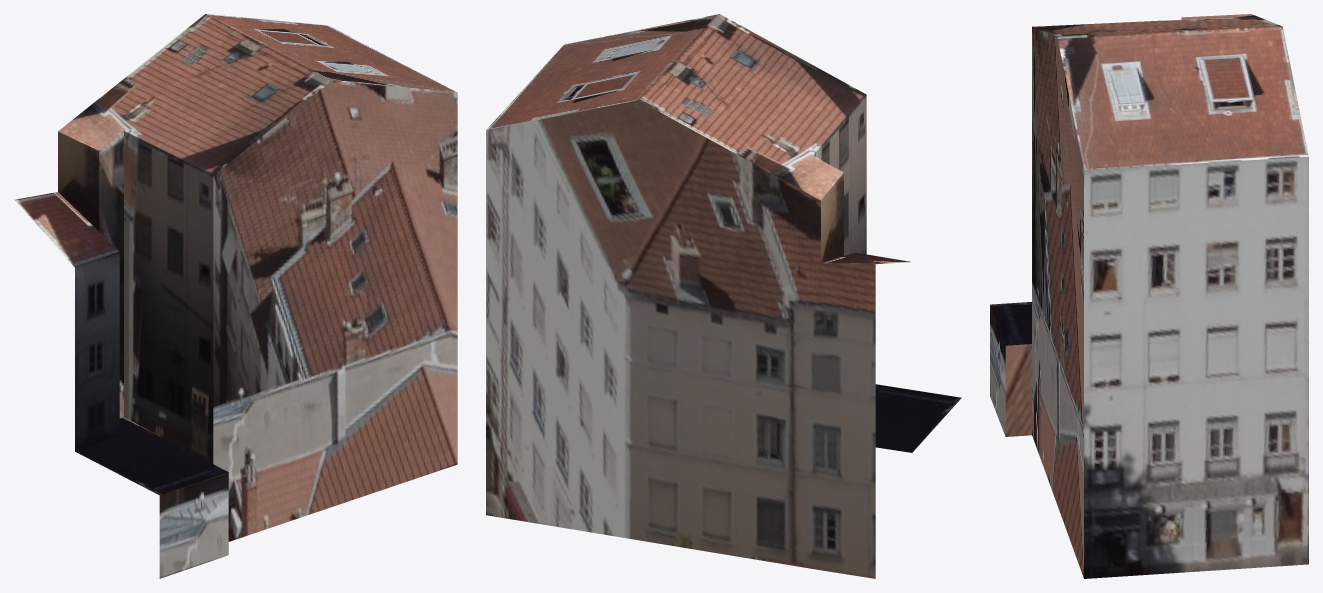
3 views of the same model, side by side, from view 1: azimuth 30°, elevation 25°; view 2: azimuth 150°, elevation 25°; view 3: azimuth 270°, elevation 25° (orthographic). The views are drawn at different scales.
Visible parts, largest first — view 1: Z_UP; view 2: Z_UP; view 3: Z_UP.
Part boxes in pixels (left/top/right/bottom): Z_UP: left=14, top=14, right=457, bottom=578; Z_UP: left=486, top=14, right=961, bottom=578; Z_UP: left=990, top=14, right=1308, bottom=578.
Size of the model in its own units: 20.1 by 22.02 by 13.58.
Materials: 2 (1 with a texture image).
